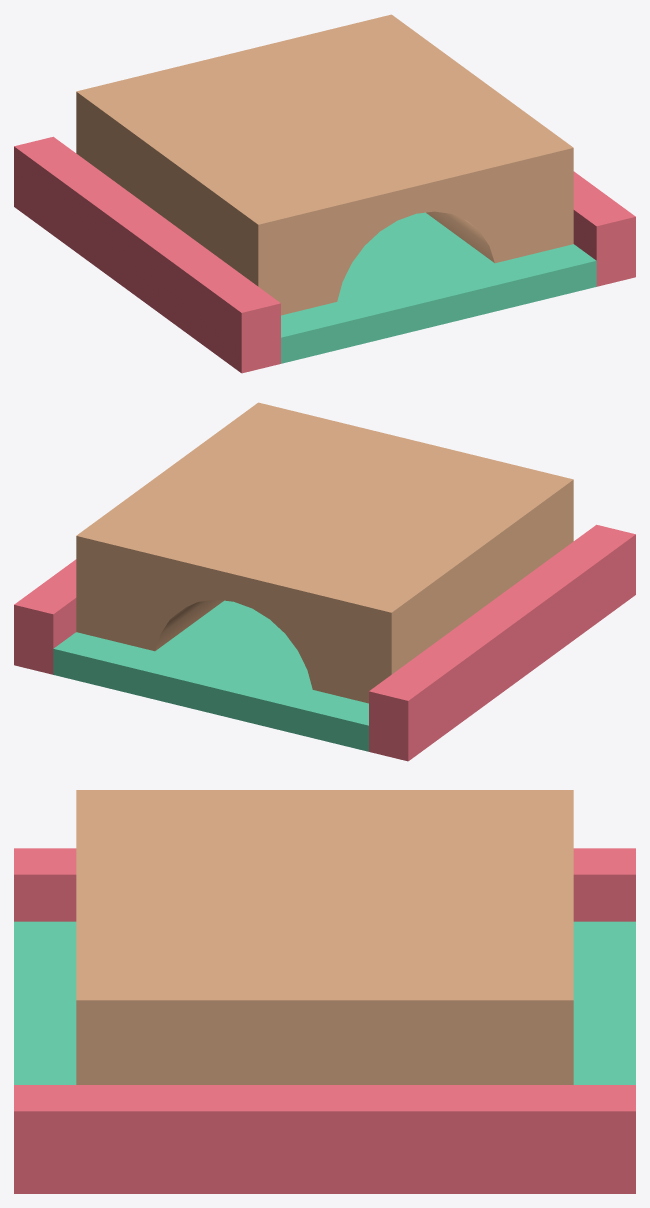
File: tunnelWide.glb
The picture shows the model from 3 angles, top to bottom: view 1: azimuth 30°, elevation 25°; view 2: azimuth 150°, elevation 25°; view 3: azimuth 270°, elevation 25°; orthographic projection. The views are drawn at different scales.
Parts seen in each view (by area): view 1: tunnelWide; view 2: tunnelWide; view 3: tunnelWide.
Boxes of the visible parts, <box> form: tunnelWide: <box>14,14,635,373</box>; tunnelWide: <box>14,402,635,761</box>; tunnelWide: <box>14,790,635,1193</box>.
Size of the model in its own units: 0.9999 by 0.2966 by 0.9999.
